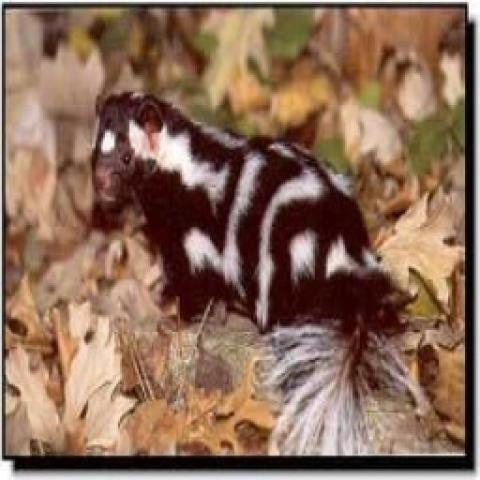small_animal: (90, 83, 396, 336)
